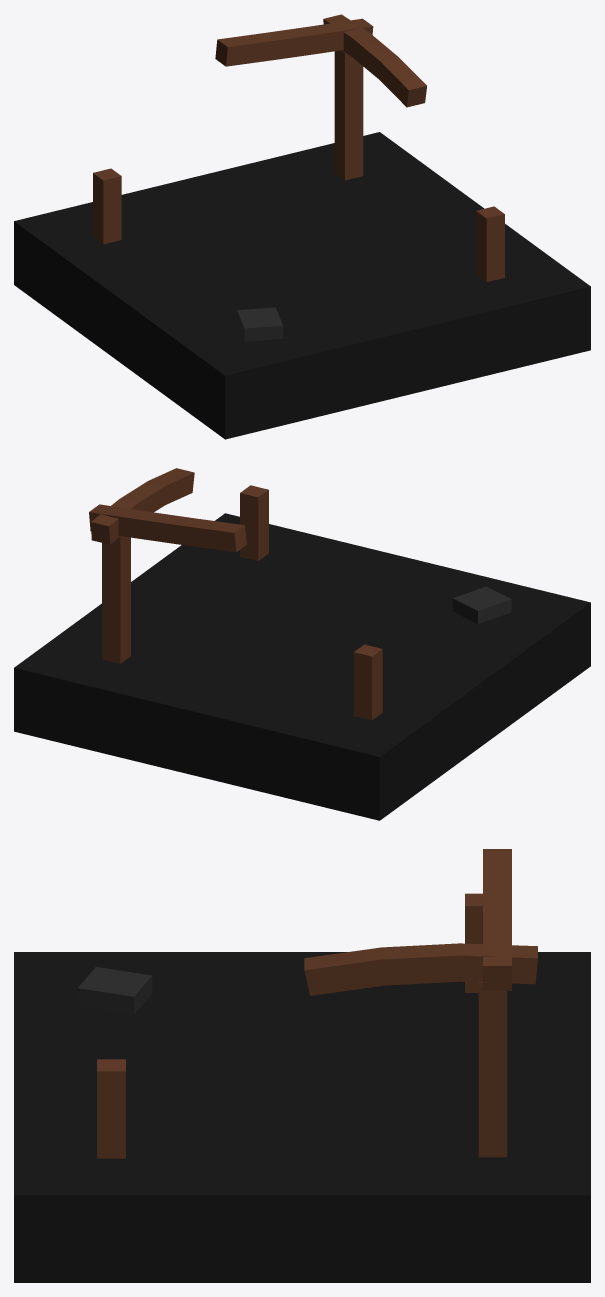
3 renders of one model, top to bottom at view 1: azimuth 30°, elevation 25°; view 2: azimuth 150°, elevation 25°; view 3: azimuth 270°, elevation 25°, orthographic. The views are drawn at different scales.
Parts seen in each view (by area): view 1: ground006, Box020, Box018, Box019, Box021, Box011, Box022; view 2: ground006, Box020, Box018, Box019, Box011, Box021, Box022; view 3: ground006, Box019, Box018, Box020, Box021, Box022, Box011.
Part boxes in pixels (left/top/right/bottom): ground006: left=14, top=132, right=590, bottom=439; Box020: left=215, top=18, right=373, bottom=66; Box018: left=334, top=50, right=363, bottom=180; Box019: left=323, top=14, right=426, bottom=107; Box021: left=476, top=206, right=504, bottom=282; Box011: left=93, top=168, right=121, bottom=244; Box022: left=237, top=307, right=283, bottom=341; ground006: left=14, top=513, right=590, bottom=820; Box020: left=89, top=504, right=246, bottom=552; Box018: left=102, top=536, right=130, bottom=663; Box019: left=91, top=468, right=194, bottom=544; Box011: left=353, top=644, right=382, bottom=720; Box021: left=240, top=485, right=268, bottom=560; Box022: left=452, top=586, right=511, bottom=623; ground006: left=14, top=952, right=590, bottom=1282; Box019: left=304, top=943, right=537, bottom=995; Box018: left=478, top=982, right=507, bottom=1157; Box020: left=483, top=849, right=511, bottom=990; Box021: left=97, top=1059, right=125, bottom=1158; Box022: left=77, top=967, right=152, bottom=1014; Box011: left=465, top=893, right=482, bottom=992.
Bounding box in the file's own units: 118 × 69.17 × 118.
